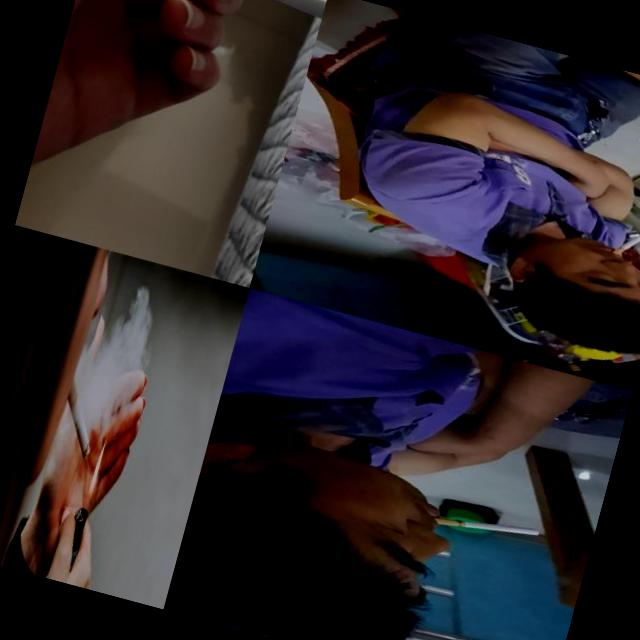smoke: (176, 0, 328, 35), (49, 376, 108, 461), (432, 503, 540, 549), (611, 226, 640, 261)
